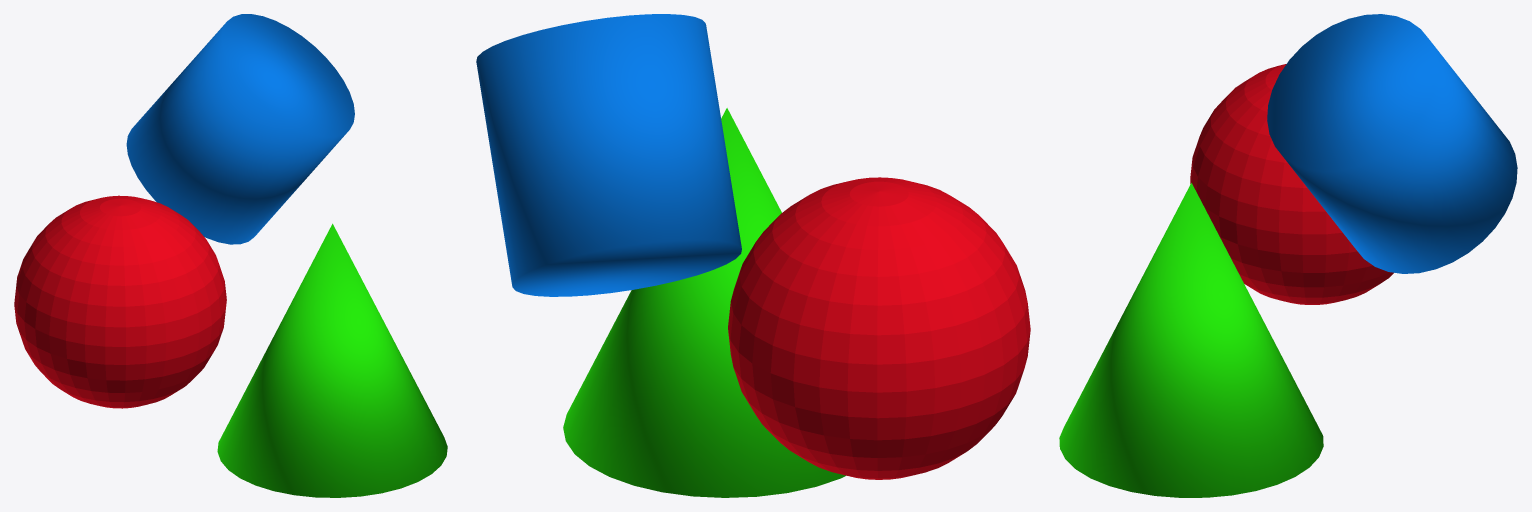
The picture shows the model from 3 angles, left to right: view 1: azimuth 30°, elevation 25°; view 2: azimuth 150°, elevation 25°; view 3: azimuth 270°, elevation 25°; orthographic projection. The views are drawn at different scales.
Visible parts, largest first — view 1: Cone, Sphere.001, Cylinder.004; view 2: Sphere.001, Cylinder.004, Cone; view 3: Cone, Cylinder.004, Sphere.001.
Boxes of the visible parts, <box> form: Cone: <box>217,223,447,497</box>; Sphere.001: <box>14,195,226,408</box>; Cylinder.004: <box>126,14,354,244</box>; Sphere.001: <box>728,177,1030,479</box>; Cylinder.004: <box>476,14,741,296</box>; Cone: <box>563,108,845,497</box>; Cone: <box>1059,183,1323,497</box>; Cylinder.004: <box>1267,14,1517,273</box>; Sphere.001: <box>1190,64,1393,304</box>.
Bounding box in the file's own units: 0.975 × 0.9583 × 0.9588.
